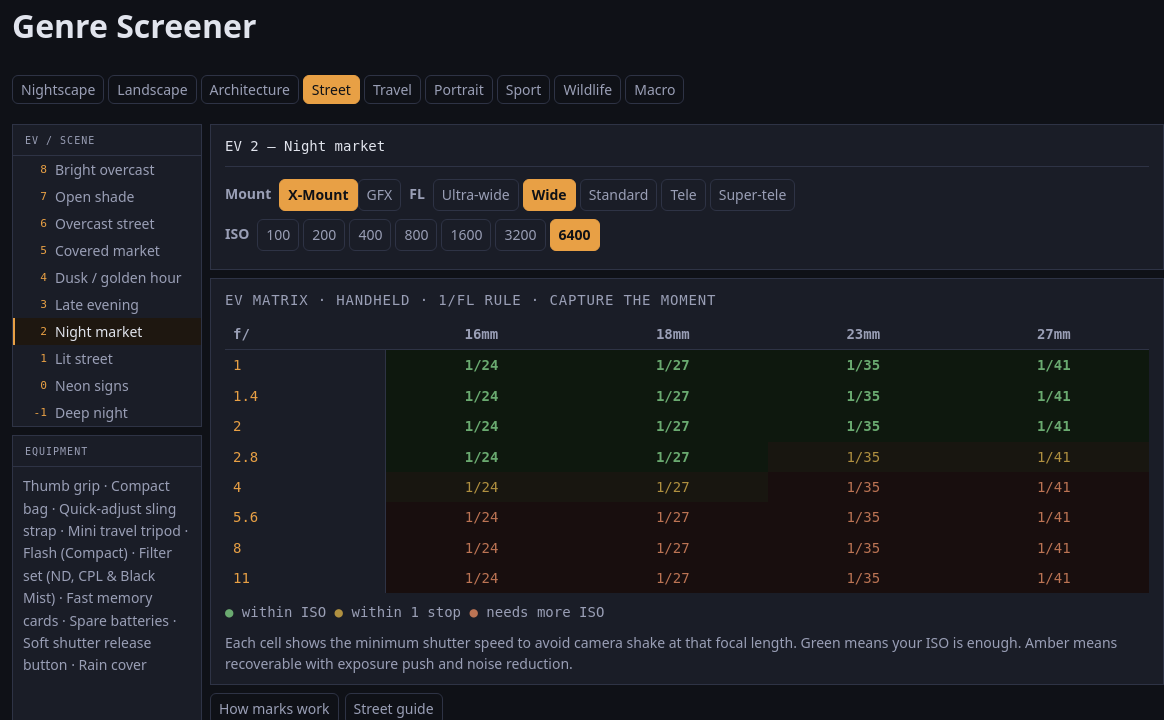
Test: GenreGuide › shows landscape scoring explanation when landscape is selected
The image size is (1164, 720).
Click the tab "Landscape".
click(153, 90)  # box [108,75,197,104]
(page scrolled)
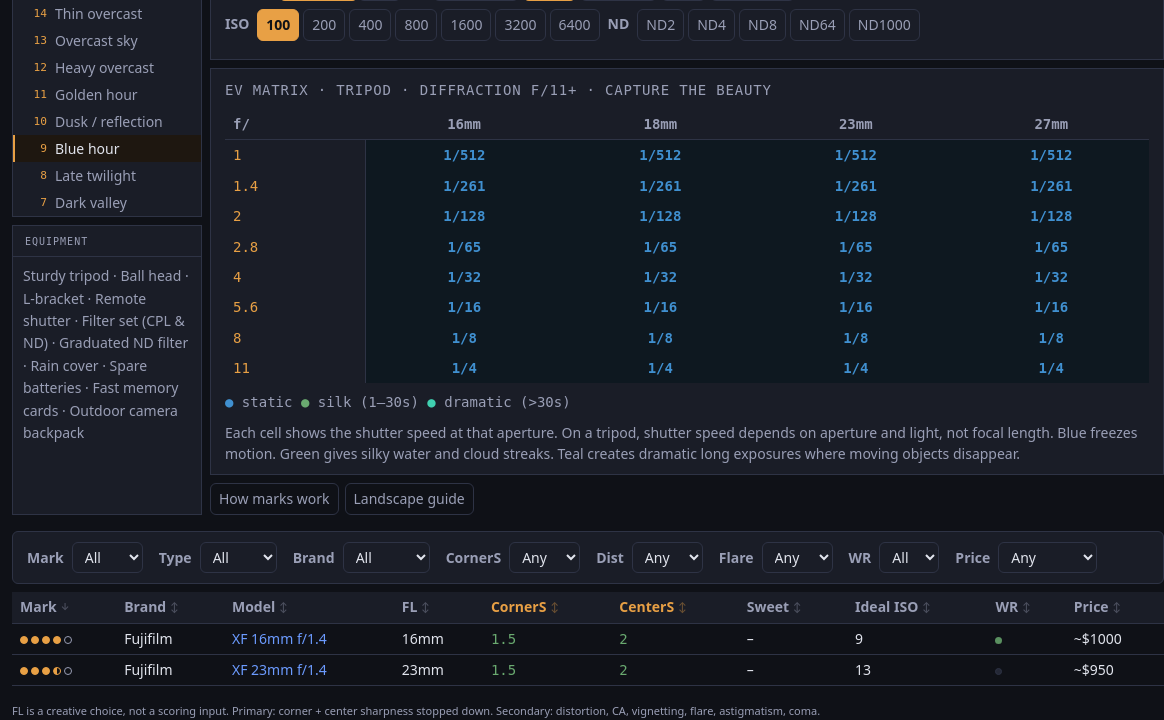
Now the text "corner + center sharpness stopped down" is shown, box [229,703,820,718]
